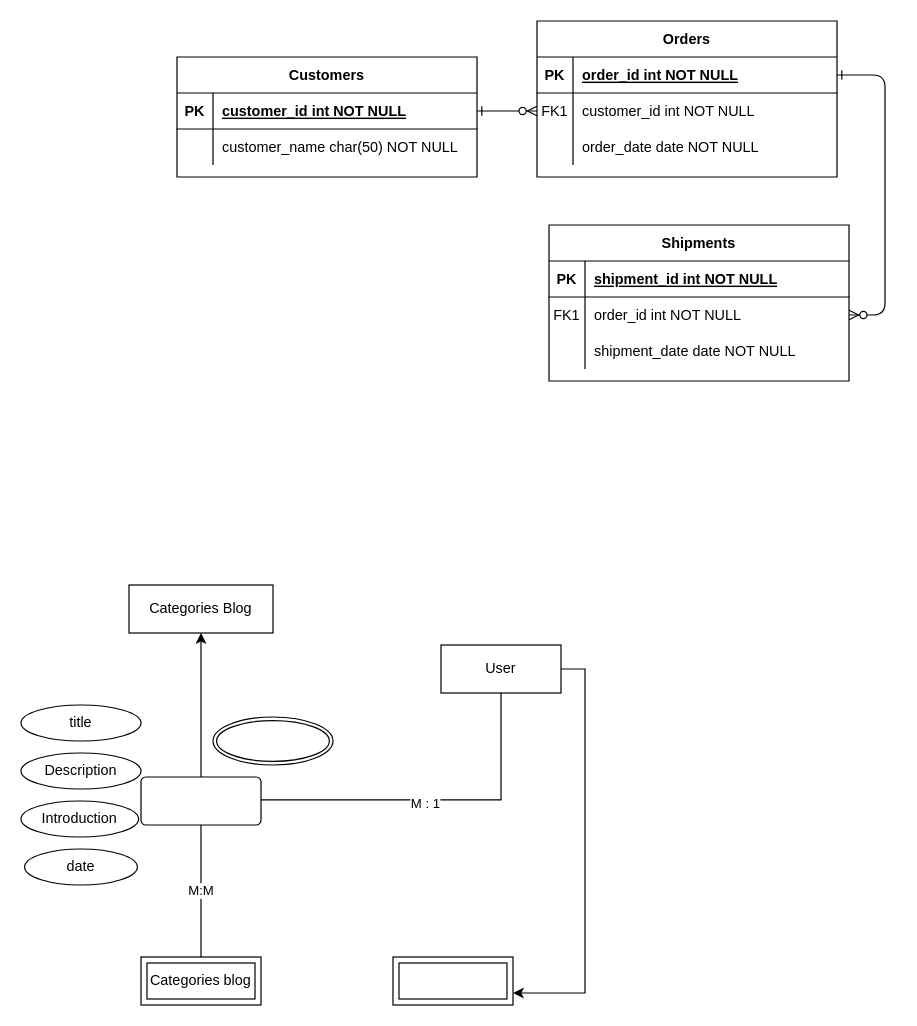
Image size: 917x1026. Some labels were removed from this diagram. The centre of each missing label's shape, as x and y in pixels:
Blog: the point at 200,800
Comments: the point at 452,980
tags: the point at 272,740
